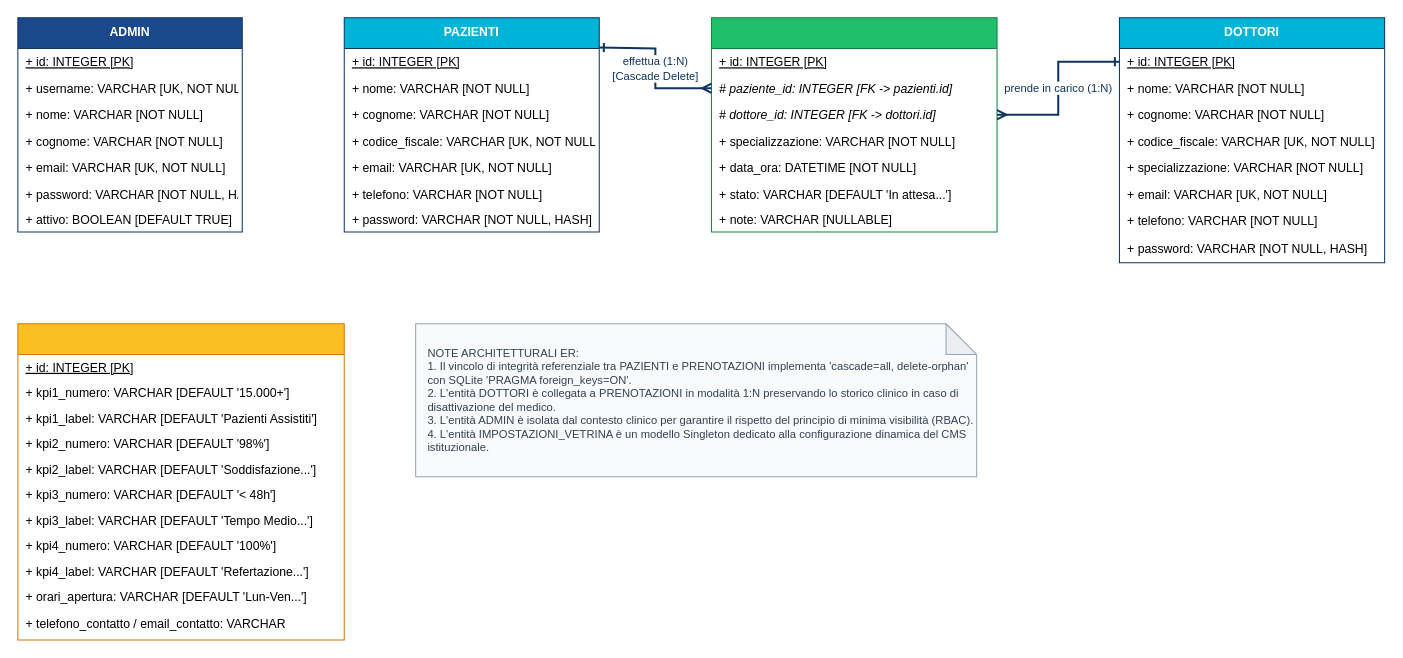
The diagram is 1403 pixels wide and 658 high, and some of its shapes have lost their labels. Each missing label, with the box of its shape:
IMPOSTAZIONI_VETRINA (CMS / Singleton): (17, 323, 344, 640)
PRENOTAZIONI: (710, 17, 997, 232)
